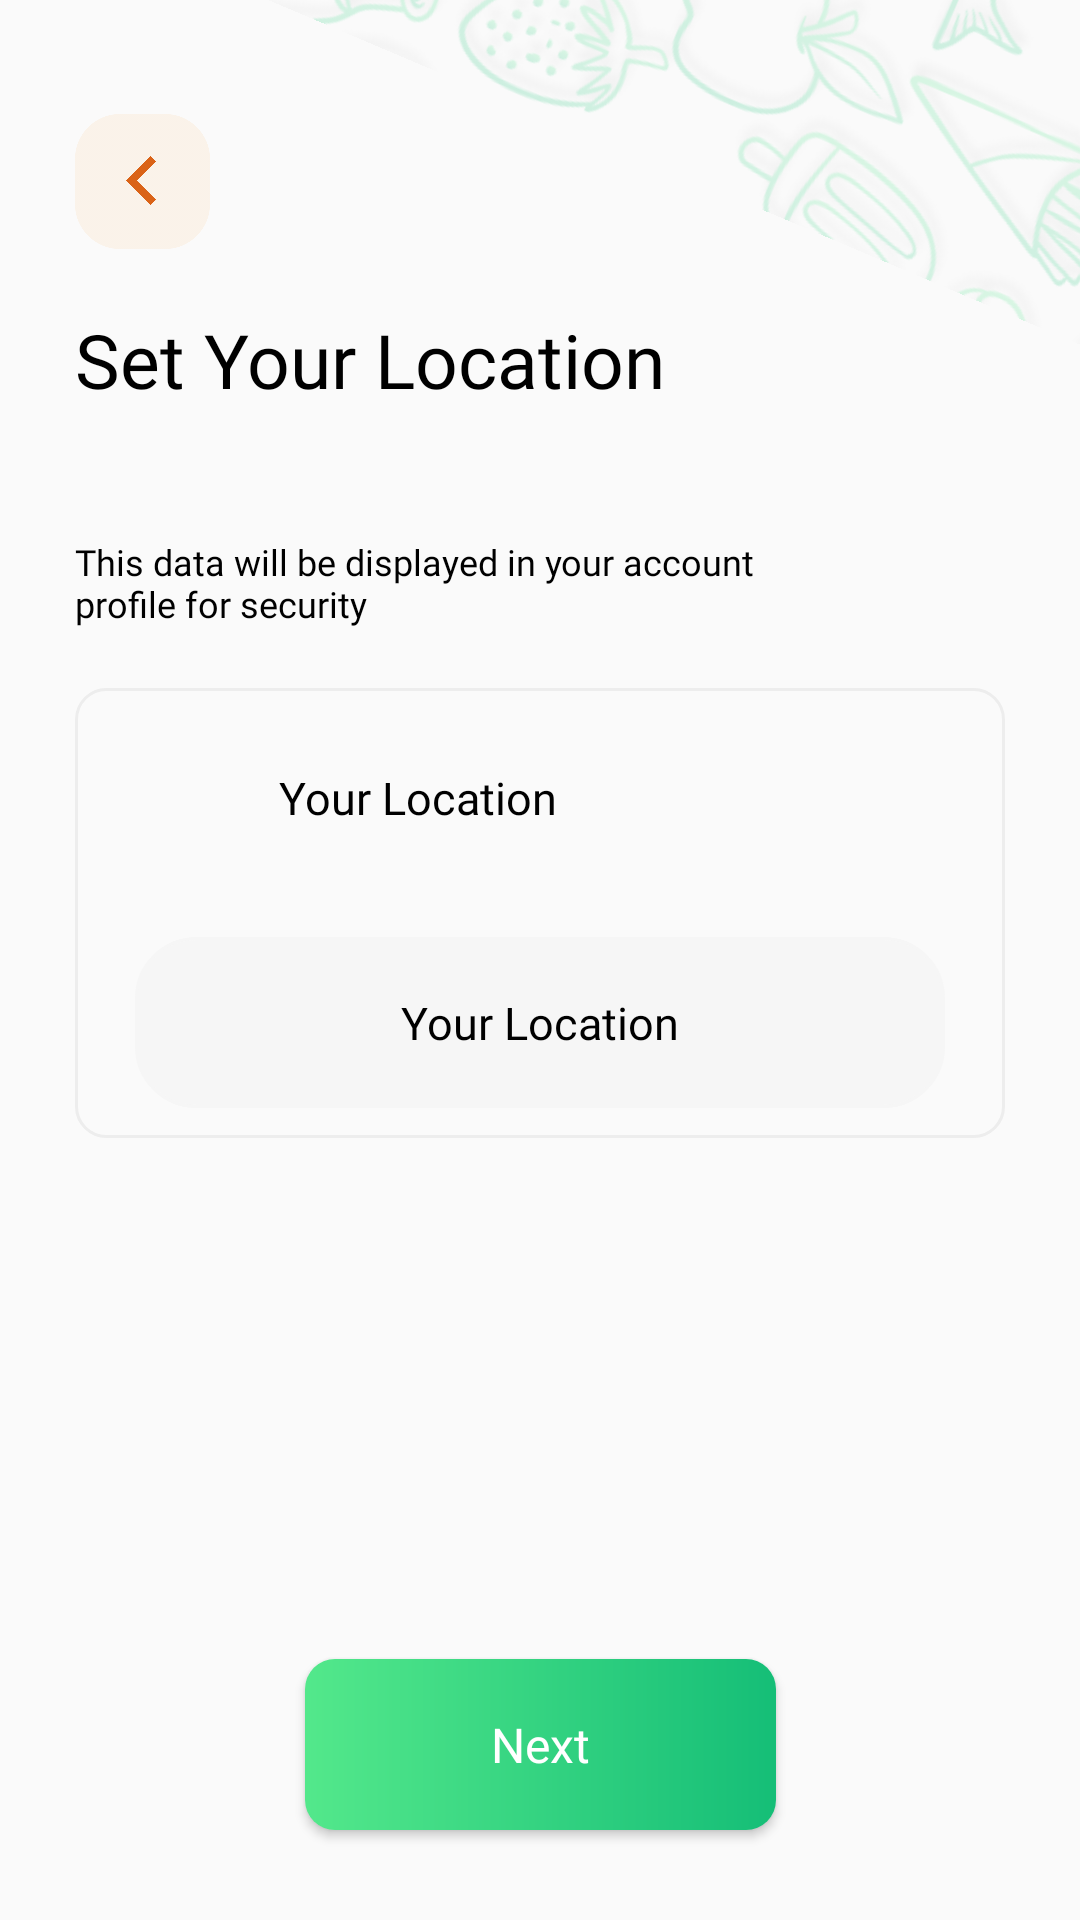

Named icons in this screenshot (1080 × 1920) and their bounding boxes, (x1=x1, y1=y1, x2=x2, y2=y2):
backicon: (x1=75, y1=114, x2=210, y2=249)
